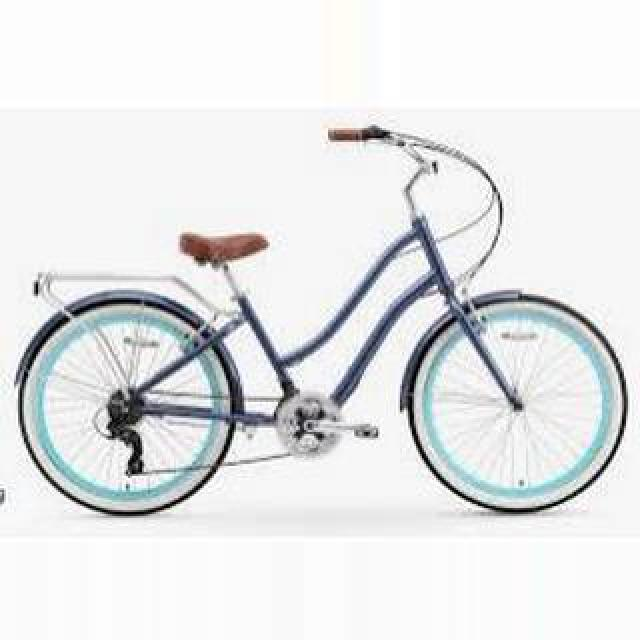Person: (16, 129, 632, 519)
